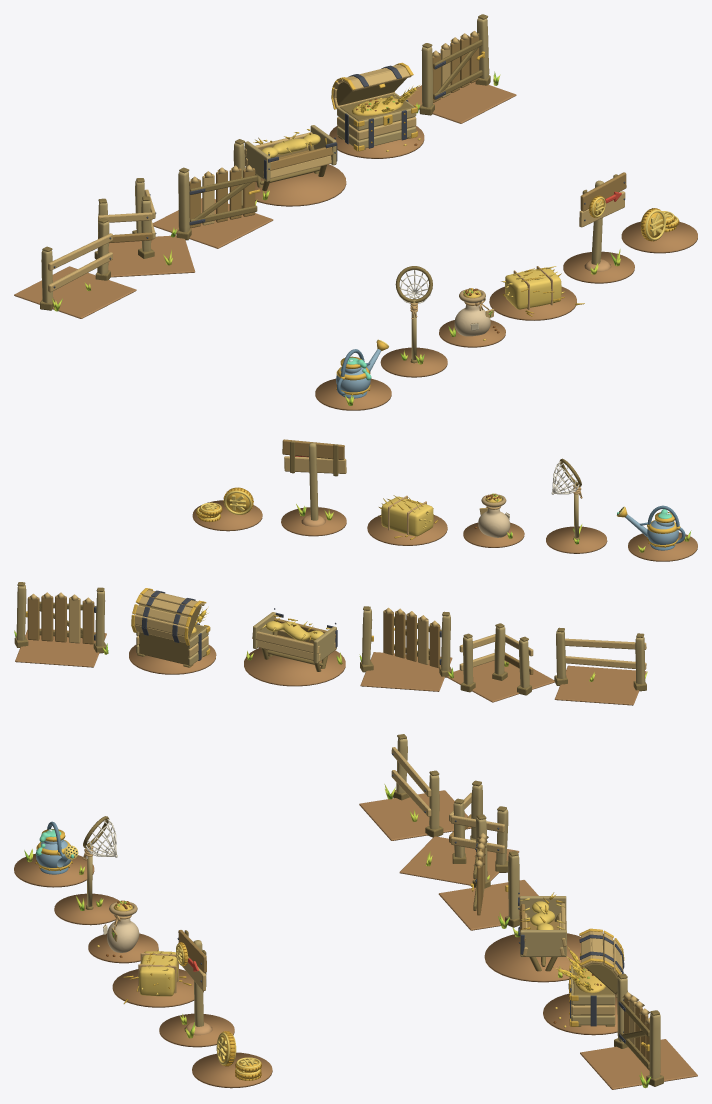
File: objets.glb
3 views of the same model, one above another, from view 1: azimuth 30°, elevation 25°; view 2: azimuth 150°, elevation 25°; view 3: azimuth 270°, elevation 25° (orthographic). The views are drawn at different scales.
Visible parts, largest first — view 1: terre_battue, terre_battue.001, terre_battue.004, terre_battue.003, terre_battue.002, botte_carree, planche.008, planche, terre_battue.011, terre_battue.007, terre_battue.009, terre_battue.010 (+21 smaller); view 2: terre_battue, terre_battue.004, terre_battue.002, planche.002, planche.008, planche, terre_battue.003, terre_battue.001, botte_carree, piquet.001, terre_battue.007, terre_battue.009 (+25 smaller); view 3: terre_battue.003, terre_battue, terre_battue.004, terre_battue.001, terre_battue.002, planche.006, terre_battue.009, terre_battue.011, terre_battue.010, botte_carree, terre_battue.006, planche.008 (+15 smaller).
Boxes of the visible parts, <box> form: terre_battue: <box>14,266,136,318</box>; terre_battue.001: <box>108,235,195,277</box>; terre_battue.004: <box>255,164,346,206</box>; terre_battue.003: <box>400,81,516,123</box>; terre_battue.002: <box>152,198,273,248</box>; botte_carree: <box>505,267,561,309</box>; planche.008: <box>333,64,416,140</box>; planche: <box>189,168,255,228</box>; terre_battue.011: <box>621,221,697,253</box>; terre_battue.007: <box>380,347,447,377</box>; terre_battue.009: <box>489,286,576,320</box>; terre_battue.010: <box>563,251,634,283</box>; terre_battue: <box>554,665,646,705</box>; terre_battue.004: <box>244,648,345,686</box>; terre_battue.002: <box>360,652,452,691</box>; planche.002: <box>27,595,94,644</box>; planche.008: <box>134,590,208,657</box>; planche: <box>383,610,440,668</box>; terre_battue.003: <box>15,628,106,667</box>; terre_battue.001: <box>447,660,554,702</box>; botte_carree: <box>381,496,433,536</box>; piquet.001: <box>463,627,529,687</box>; terre_battue.007: <box>546,526,607,553</box>; terre_battue.009: <box>367,515,447,545</box>; terre_battue.003: <box>580,1039,697,1089</box>; terre_battue: <box>359,790,471,840</box>; terre_battue.004: <box>484,933,581,982</box>; terre_battue.001: <box>399,836,519,885</box>; terre_battue.002: <box>438,880,538,930</box>; planche.006: <box>519,896,566,956</box>; terre_battue.009: <box>112,969,203,1007</box>; terre_battue.011: <box>192,1052,272,1088</box>; terre_battue.010: <box>159,1013,234,1047</box>; botte_carree: <box>139,951,177,996</box>; terre_battue.006: <box>14,853,94,887</box>; planche.008: <box>571,931,623,1015</box>.
Bounding box in the file's own units: 8.43 × 1.29 × 8.16.
